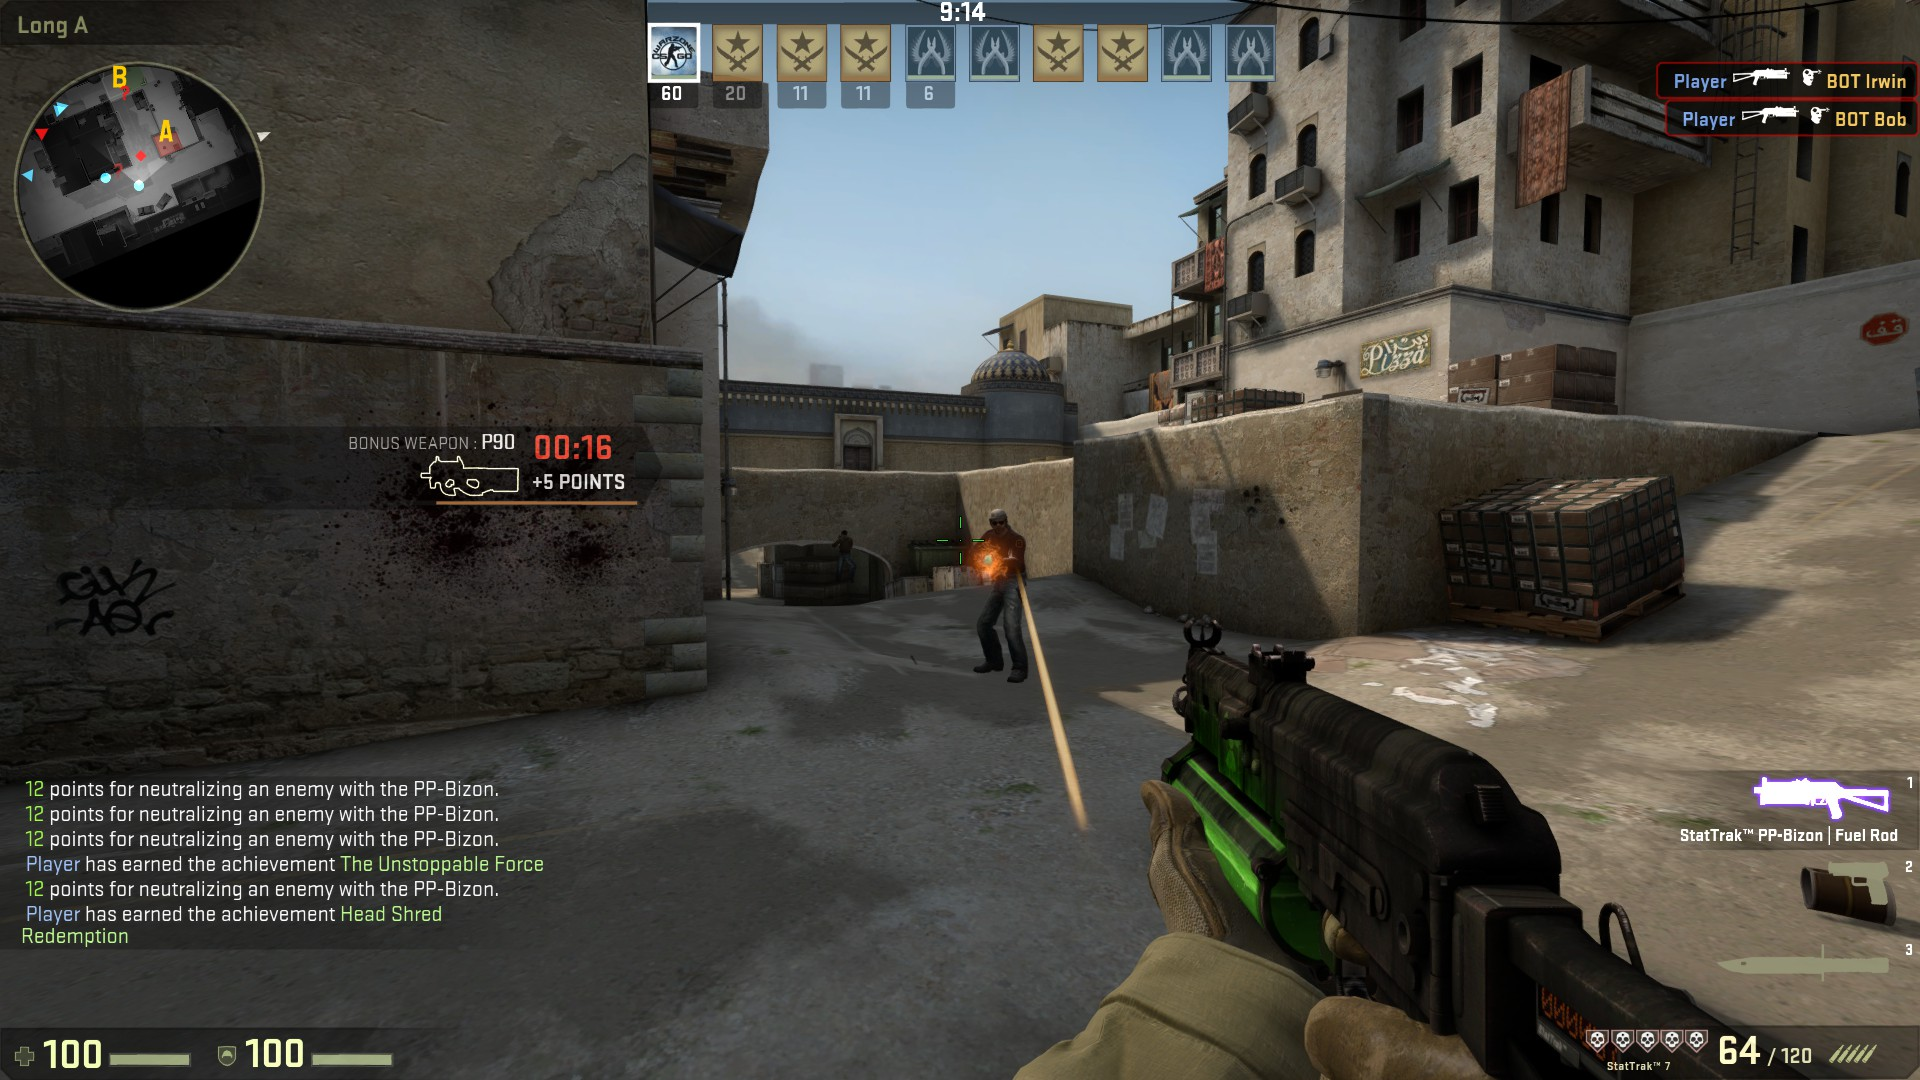t: (965, 508, 1035, 683), (829, 529, 857, 582)
th: (985, 509, 1011, 541)
